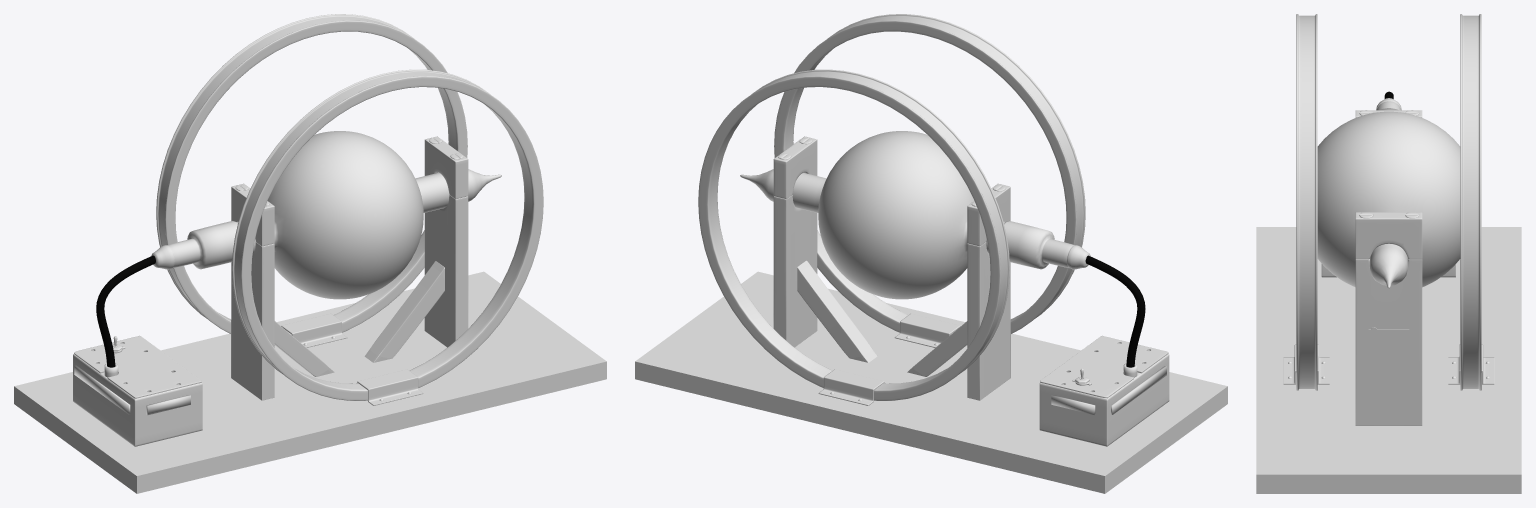
Rendered from CR_Without-Yellow-and-Arrow_M.fbx.
3 views of the same model, side by side, from view 1: azimuth 30°, elevation 25°; view 2: azimuth 150°, elevation 25°; view 3: azimuth 270°, elevation 25° (orthographic). The views are drawn at different scales.
Parts seen in each view (by area): view 1: estático, aros, vidro.001, suporte_madeira1, caixa, dinâmico; view 2: estático, aros, vidro.001, suporte_madeira1, caixa, dinâmico; view 3: estático, vidro.001, aros, suporte_madeira1, placa_extra.
Boxes of the visible parts, <box> form: estático: <box>14,271,606,493</box>; aros: <box>156,14,543,405</box>; vidro.001: <box>237,131,501,299</box>; suporte_madeira1: <box>231,136,468,400</box>; caixa: <box>73,255,202,446</box>; dinâmico: <box>151,221,237,269</box>; estático: <box>635,271,1227,493</box>; aros: <box>698,14,1085,405</box>; vidro.001: <box>740,131,1004,299</box>; suporte_madeira1: <box>773,136,1010,400</box>; caixa: <box>1039,255,1169,446</box>; dinâmico: <box>1004,221,1090,269</box>; estático: <box>1256,227,1521,493</box>; vidro.001: <box>1317,111,1460,288</box>; aros: <box>1283,14,1494,390</box>; suporte_madeira1: <box>1355,110,1422,425</box>; placa_extra: <box>1368,327,1409,339</box>.
Size of the model in its own units: 552 by 374 by 250.
